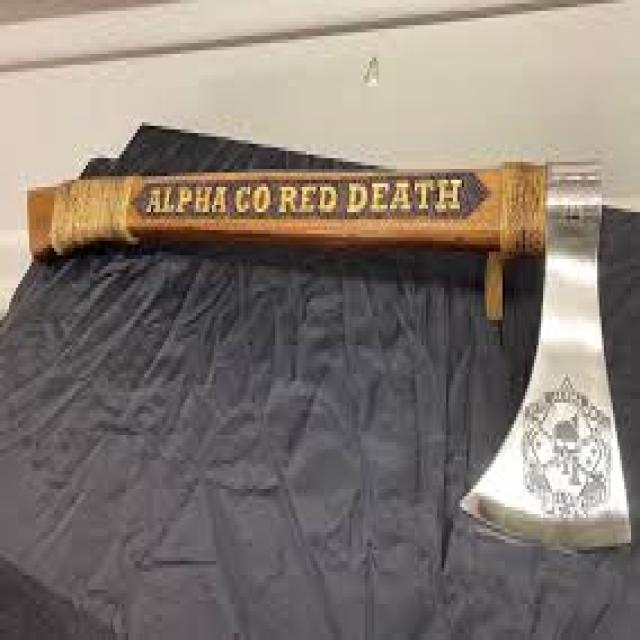Gun: (18, 115, 640, 554)
